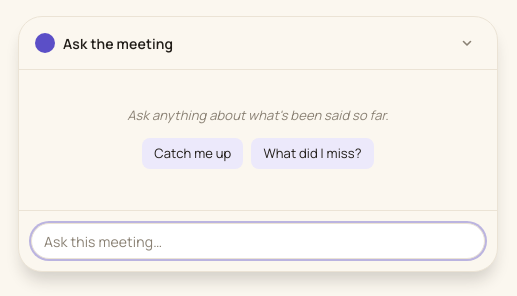
ChatWindow › sends on Enter and clears the input
Type "what was decided?" into the field with placeholder "Ask this meeting…" at (258, 241), box [44,230,472,252]
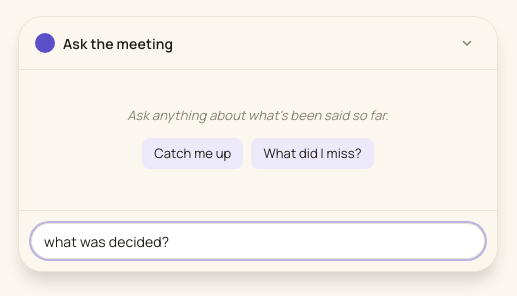
Press Enter in the field with placeholder "Ask this meeting…", box [44,230,472,252]
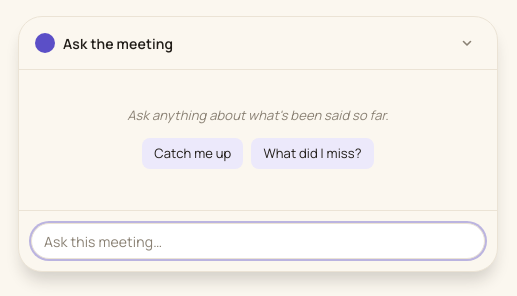
expect the field with placeholder "Ask this meeting…" is empty: met, box [44,230,472,252]
